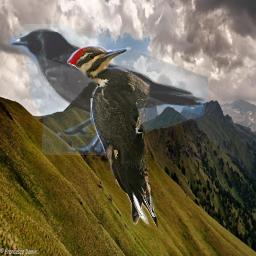Crow: (9, 24, 208, 155)
Woodpecker: (67, 45, 160, 230)
